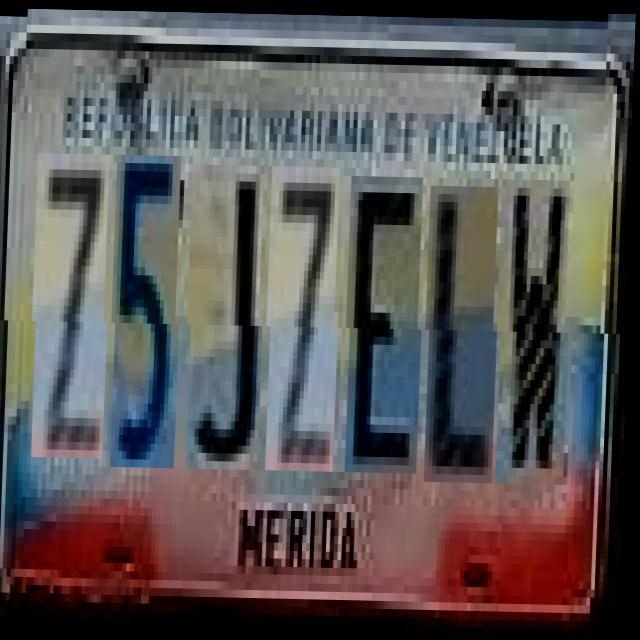5: (114, 154, 186, 468)
E: (348, 174, 428, 472)
J: (190, 164, 270, 468)
L: (428, 184, 503, 481)
W: (499, 177, 575, 482)
Z: (34, 153, 114, 458), (269, 165, 345, 470)
